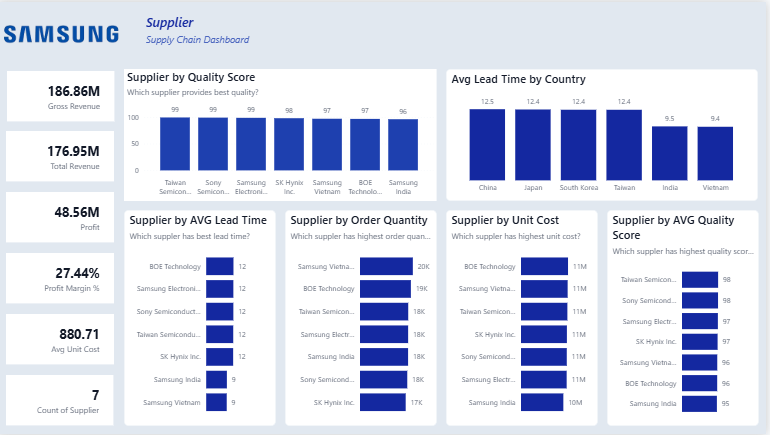

The page's visual inventory and layout, read from the dashboard file:
{"tool":"powerbi","page":{"name":"Supplier","canvas":[1280,720],"ordinal":2},"visuals":[{"type":"cardVisual","fields":{"Data":["MeasuresTable.Total_Revenue"]},"box":[8.3,210.6,190,94],"z":0},{"type":"cardVisual","fields":{"Data":["MeasuresTable.Profit"]},"box":[8.3,312.1,190,94],"z":1000},{"type":"cardVisual","fields":{"Data":["MeasuresTable.Profit Margin %"]},"box":[8.3,413.6,190,94],"z":2000},{"type":"cardVisual","fields":{"Data":["fact_procurement.Avg_Unit_Cost"]},"box":[8.3,515,190,94],"z":3000},{"type":"cardVisual","fields":{"Data":["CountNonNull(dim_supplier.supplier_id)"]},"box":[8.4,616.5,189.8,94.1],"z":4000},{"type":"cardVisual","fields":{"Data":["Sum(fact_sales.gross_revenue)"]},"box":[10.1,109.2,189.8,94],"z":5000},{"type":"clusteredBarChart","title":"Supplier by AVG Lead Time","fields":{"Category":["dim_supplier.supplier_name"],"Y":["MeasuresTable.Avg_Lead_Time"]},"box":[210,346.9,253,360],"z":6000},{"type":"clusteredBarChart","title":"Supplier by Order Quantity","fields":{"Category":["dim_supplier.supplier_name"],"Y":["MeasuresTable.Order_QTY"]},"box":[478.2,346.9,253,360],"z":7000},{"type":"clusteredBarChart","title":"Supplier by Unit Cost","fields":{"Y":["fact_procurement.Total_Unit_Cost"],"Category":["dim_supplier.supplier_name"]},"box":[746.4,346.9,253,360],"z":8000},{"type":"columnChart","title":"Avg Lead Time by Country","fields":{"Category":["dim_supplier.country"],"Y":["MeasuresTable.Avg_Lead_Time"]},"box":[747.3,111.4,519.5,219.6],"z":9000},{"type":"clusteredBarChart","title":"Supplier by AVG Quality Score","fields":{"Category":["dim_supplier.supplier_name"],"Y":["fact_procurement.Avg_Quality_Score"]},"box":[1014.6,346.9,253,360],"z":11000},{"type":"image","box":[0,0,210,107.1],"z":12000},{"type":"shape","title":"Supplier","box":[247.1,18.6,304.3,88.6],"z":13000},{"type":"clusteredColumnChart","title":"Supplier by Quality Score","fields":{"Category":["dim_supplier.supplier_name"],"Y":["Sum(dim_supplier.avg_quality_score)"]},"box":[210,111.4,521.4,220],"z":14000}]}

Visuals, with their boxes in screenshot pixels (x1, y1, x2, y2), scaled from the page's 1280x720 canvas onto the 770x435 screenshot:
cardVisual - MeasuresTable.Total_Revenue: [5, 127, 119, 184]
cardVisual - MeasuresTable.Profit: [5, 189, 119, 245]
cardVisual - MeasuresTable.Profit Margin %: [5, 250, 119, 307]
cardVisual - fact_procurement.Avg_Unit_Cost: [5, 311, 119, 368]
cardVisual - CountNonNull(dim_supplier.supplier_id): [5, 372, 119, 429]
cardVisual - Sum(fact_sales.gross_revenue): [6, 66, 120, 123]
"Supplier by AVG Lead Time" clusteredBarChart: [126, 210, 279, 427]
"Supplier by Order Quantity" clusteredBarChart: [288, 210, 440, 427]
"Supplier by Unit Cost" clusteredBarChart: [449, 210, 601, 427]
"Avg Lead Time by Country" columnChart: [450, 67, 762, 200]
"Supplier by AVG Quality Score" clusteredBarChart: [610, 210, 763, 427]
image: [0, 0, 126, 65]
"Supplier" shape: [149, 11, 332, 65]
"Supplier by Quality Score" clusteredColumnChart: [126, 67, 440, 200]
